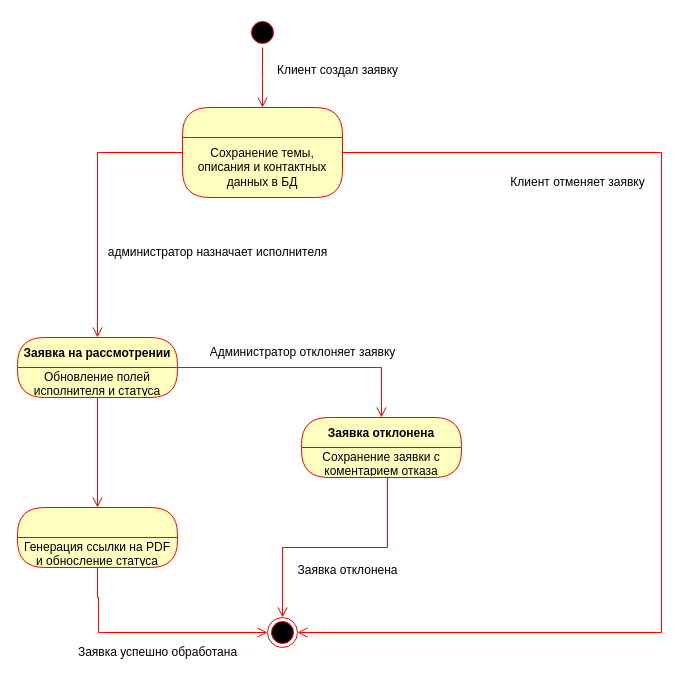
The diagram is 689 pixels wide and 685 high, and some of its shapes have lost their labels. The shapes that lost their labels are listed below. From the top down, each one's box as (x1, y1, x2, y2) in pixels, then its label:
(182, 106, 342, 198): Новая заявка
(16, 506, 178, 568): Заявка закрыта
